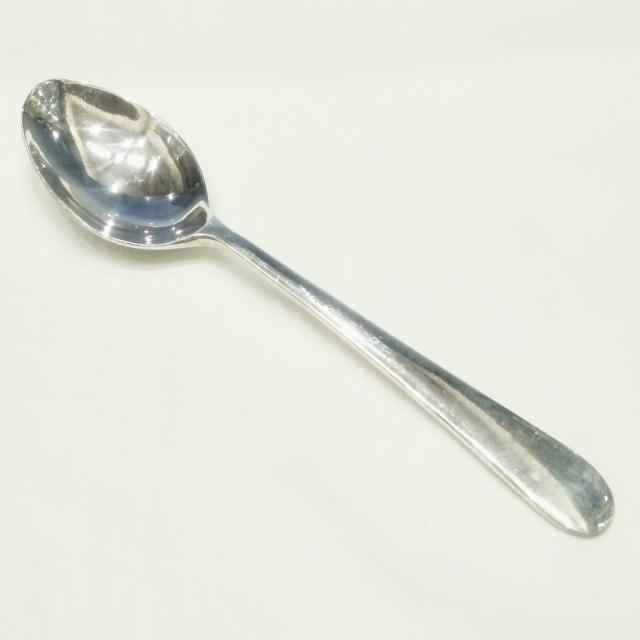spoon: (0, 36, 627, 544)
